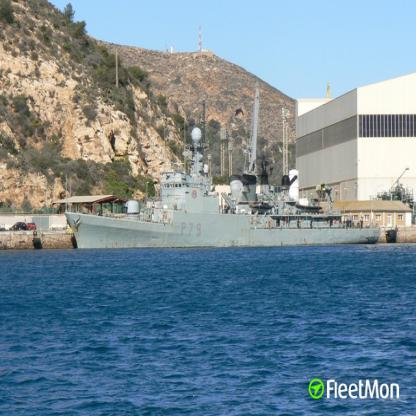Military Ship: (64, 98, 381, 249)
